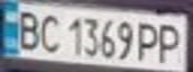1: (60, 12, 84, 56)
3: (78, 15, 103, 57)
6: (97, 16, 118, 60)
9: (115, 16, 139, 61)
B: (9, 7, 45, 52)
C: (33, 10, 63, 53)
P: (154, 20, 187, 64), (136, 19, 163, 63)
